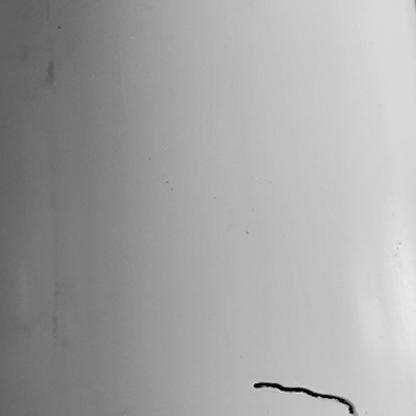fengxi: (250, 381, 362, 416)
